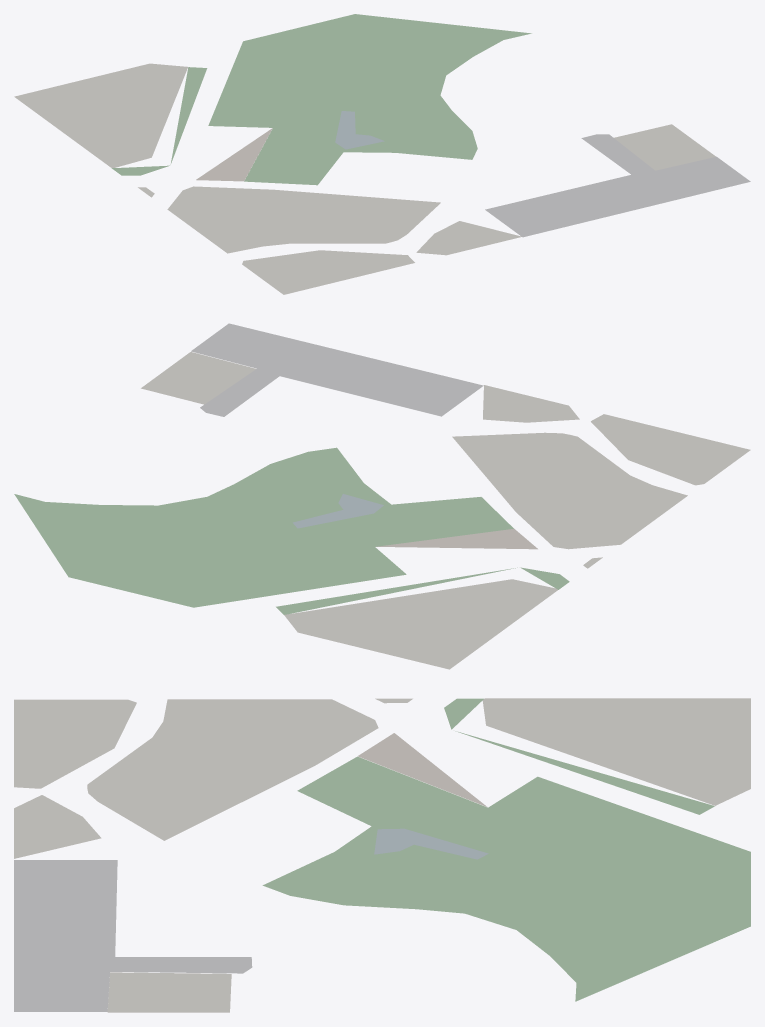
Rendered from 106_90_mid.glb.
The picture shows the model from 3 angles, top to bottom: view 1: azimuth 30°, elevation 25°; view 2: azimuth 150°, elevation 25°; view 3: azimuth 270°, elevation 25°; orthographic projection. The views are drawn at different scales.
Size of the model in its own units: 500 by 2 by 500.
